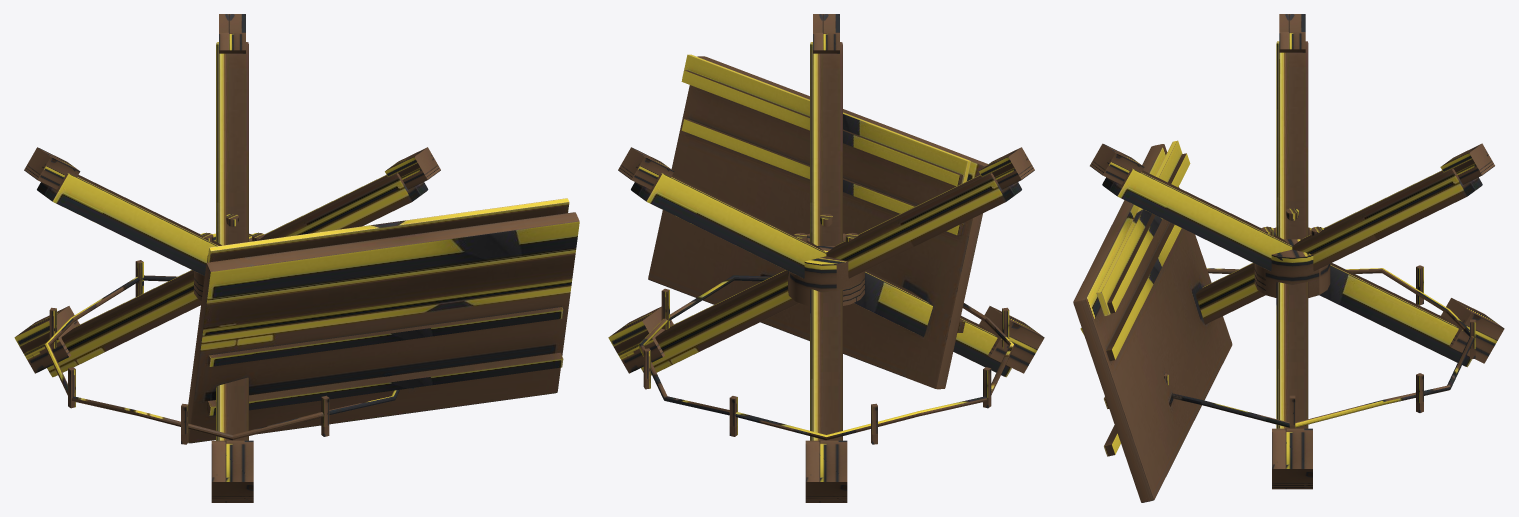
Rendered from DD_barricade_metal.glb.
The picture shows the model from 3 angles, left to right: view 1: azimuth 30°, elevation 25°; view 2: azimuth 150°, elevation 25°; view 3: azimuth 270°, elevation 25°; orthographic projection. The views are drawn at different scales.
Parts seen in each view (by area): view 1: DD_barricade_metal; view 2: DD_barricade_metal; view 3: DD_barricade_metal.
Part boxes in pixels (x1=…): DD_barricade_metal: x1=14, y1=14, x2=579, y2=502; DD_barricade_metal: x1=608, y1=14, x2=1044, y2=502; DD_barricade_metal: x1=1073, y1=14, x2=1504, y2=502.
Size of the model in its own units: 1.74 by 1.14 by 1.48.
1 material, 1 textured.
